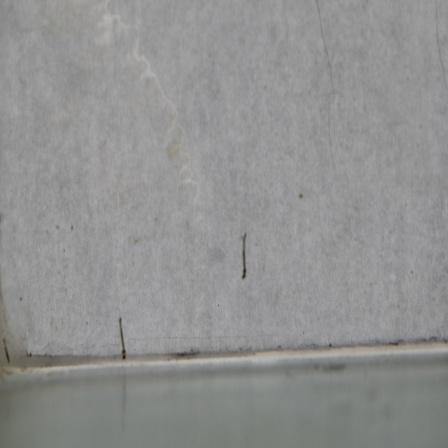Jentik-Nyamuk: (234, 230, 255, 286), (114, 315, 131, 365)
